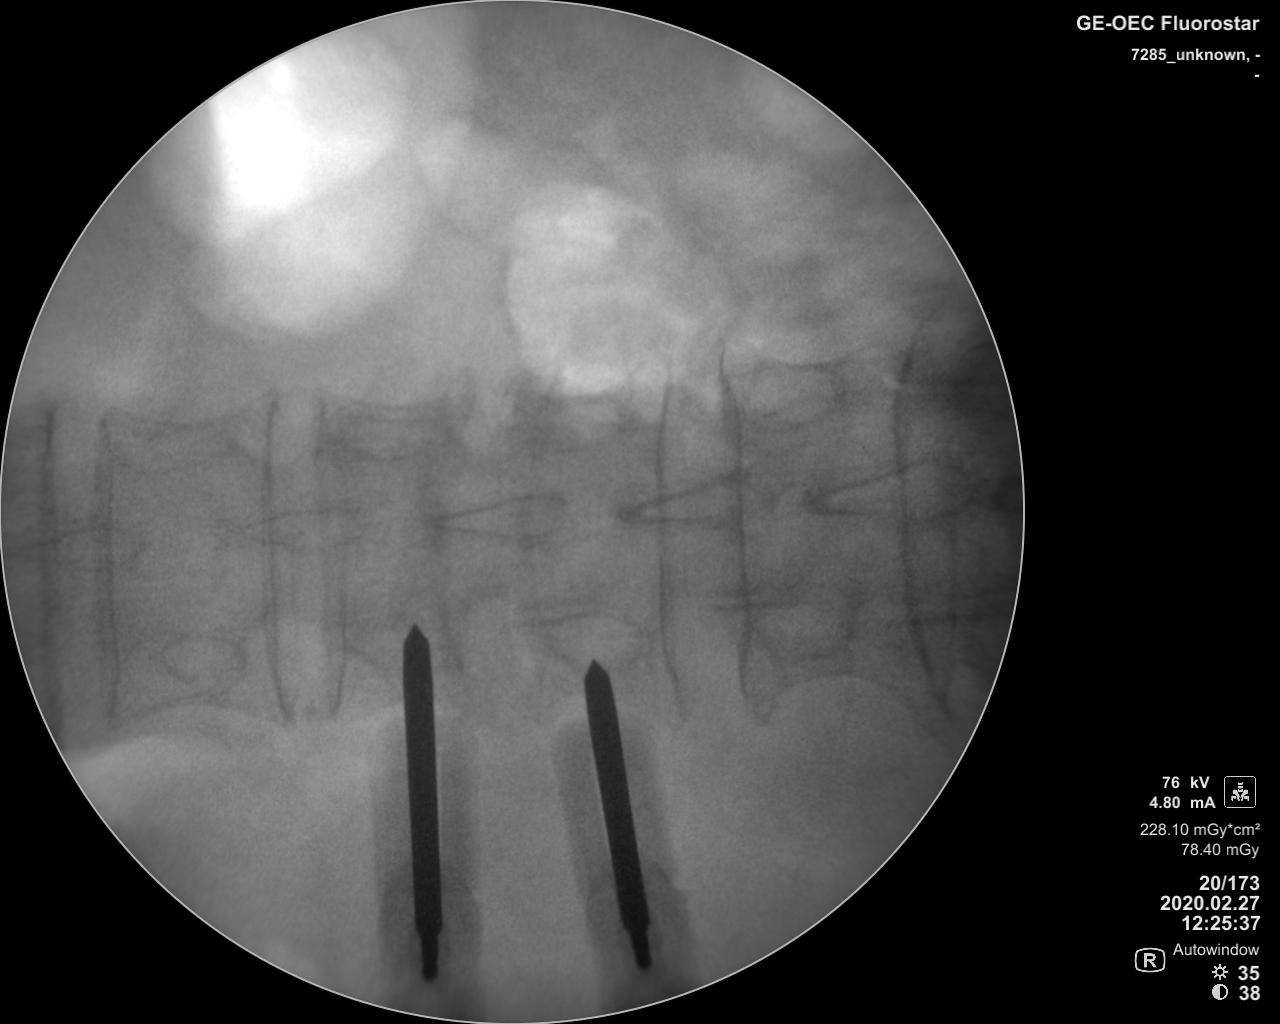eyes: (746, 590, 858, 659), (730, 364, 846, 429), (536, 608, 651, 673), (336, 400, 450, 462), (138, 411, 238, 474), (153, 628, 251, 692), (358, 612, 452, 674), (530, 394, 629, 450)
line: (887, 334, 940, 715), (712, 346, 757, 704), (651, 368, 694, 728), (309, 382, 350, 727), (259, 390, 296, 730), (93, 400, 123, 735), (36, 405, 66, 737)
nose: (799, 453, 979, 523), (626, 467, 775, 532), (423, 492, 576, 548), (235, 502, 376, 554), (9, 523, 152, 572)
